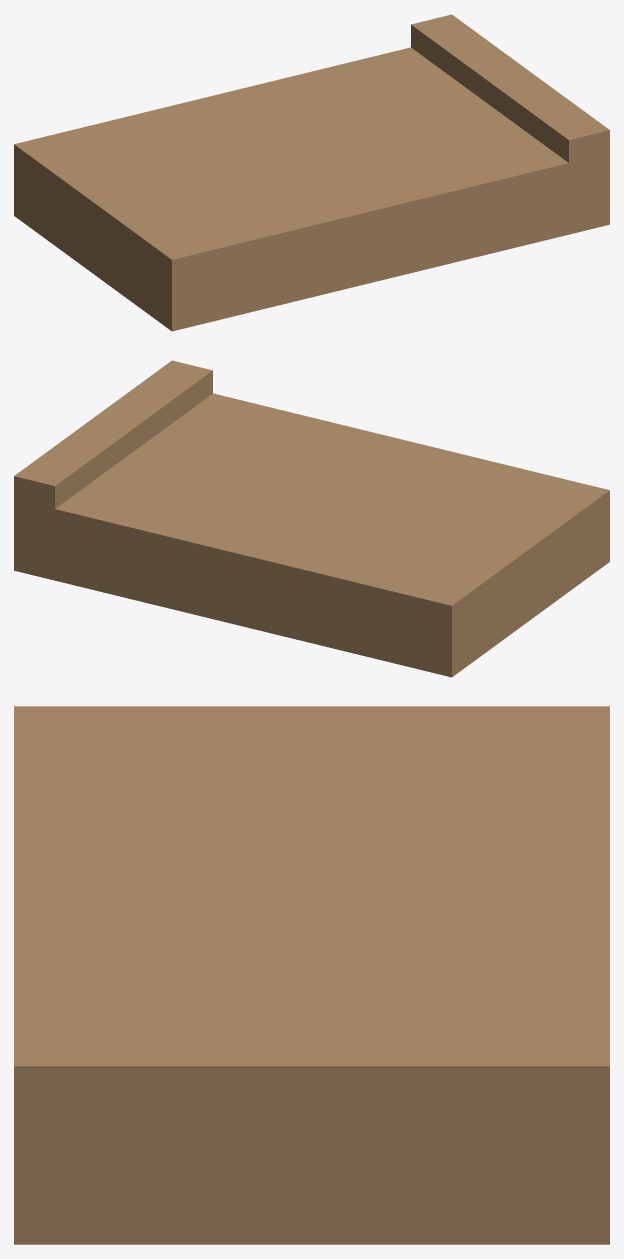
File: prop-quill-cutting-block-qc1.fbx
3 views of the same model, one above another, from view 1: azimuth 30°, elevation 25°; view 2: azimuth 150°, elevation 25°; view 3: azimuth 270°, elevation 25° (orthographic). The views are drawn at different scales.
Visible parts, largest first — view 1: prop-quill-cutting-block-qc1; view 2: prop-quill-cutting-block-qc1; view 3: prop-quill-cutting-block-qc1.
Part boxes in pixels (left/top/right/bottom): prop-quill-cutting-block-qc1: left=14, top=14, right=609, bottom=331; prop-quill-cutting-block-qc1: left=14, top=360, right=609, bottom=677; prop-quill-cutting-block-qc1: left=14, top=706, right=609, bottom=1244.
Size of the model in its own units: 16 by 3.3 by 10.
